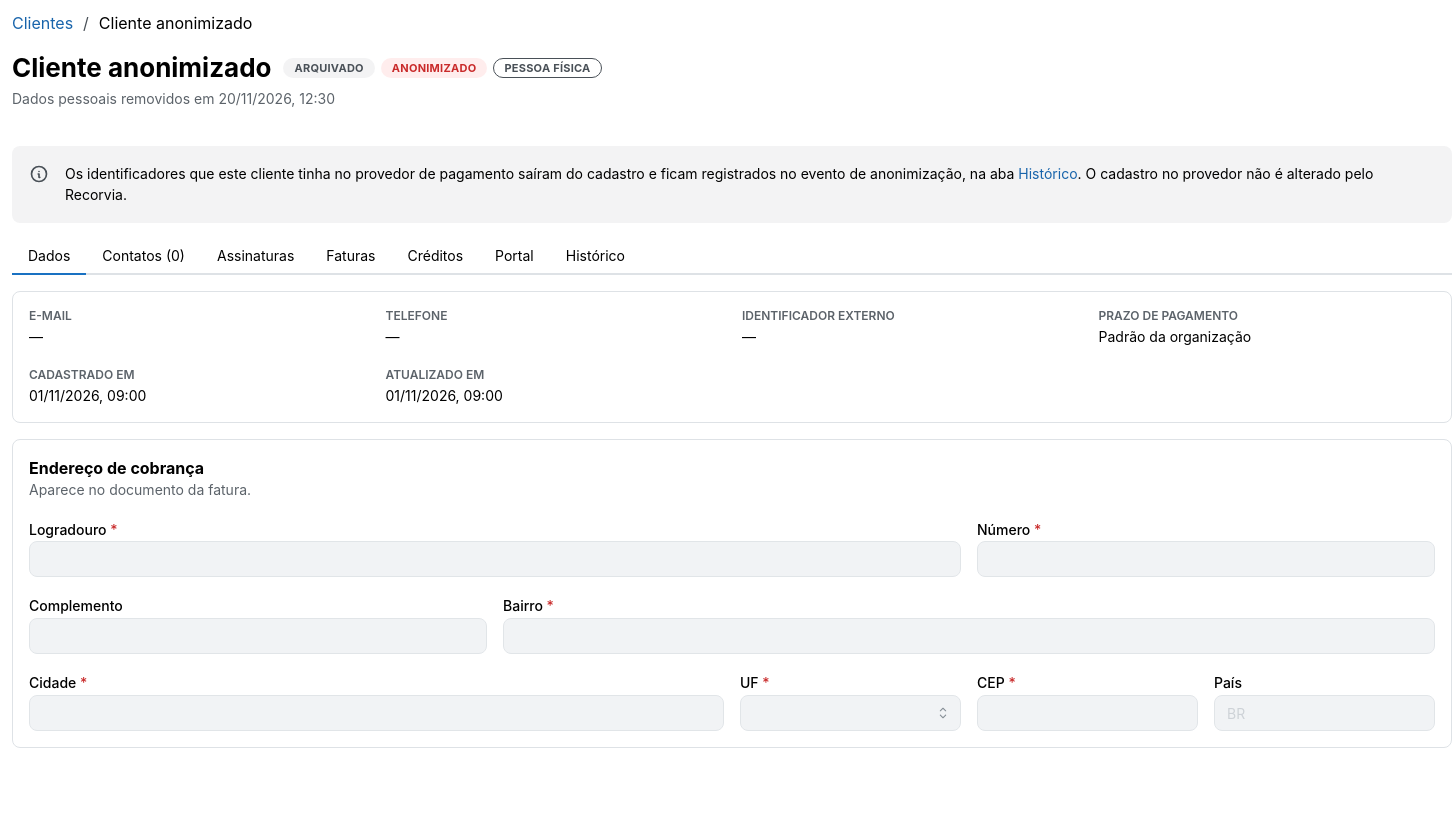
Scenario: anonimização de cliente › cliente anonimizado indica que os identificadores do provedor estão no histórico e leva até ele
Click the button "Histórico" at (1048, 174), box left=1018, top=164, right=1078, bottom=184
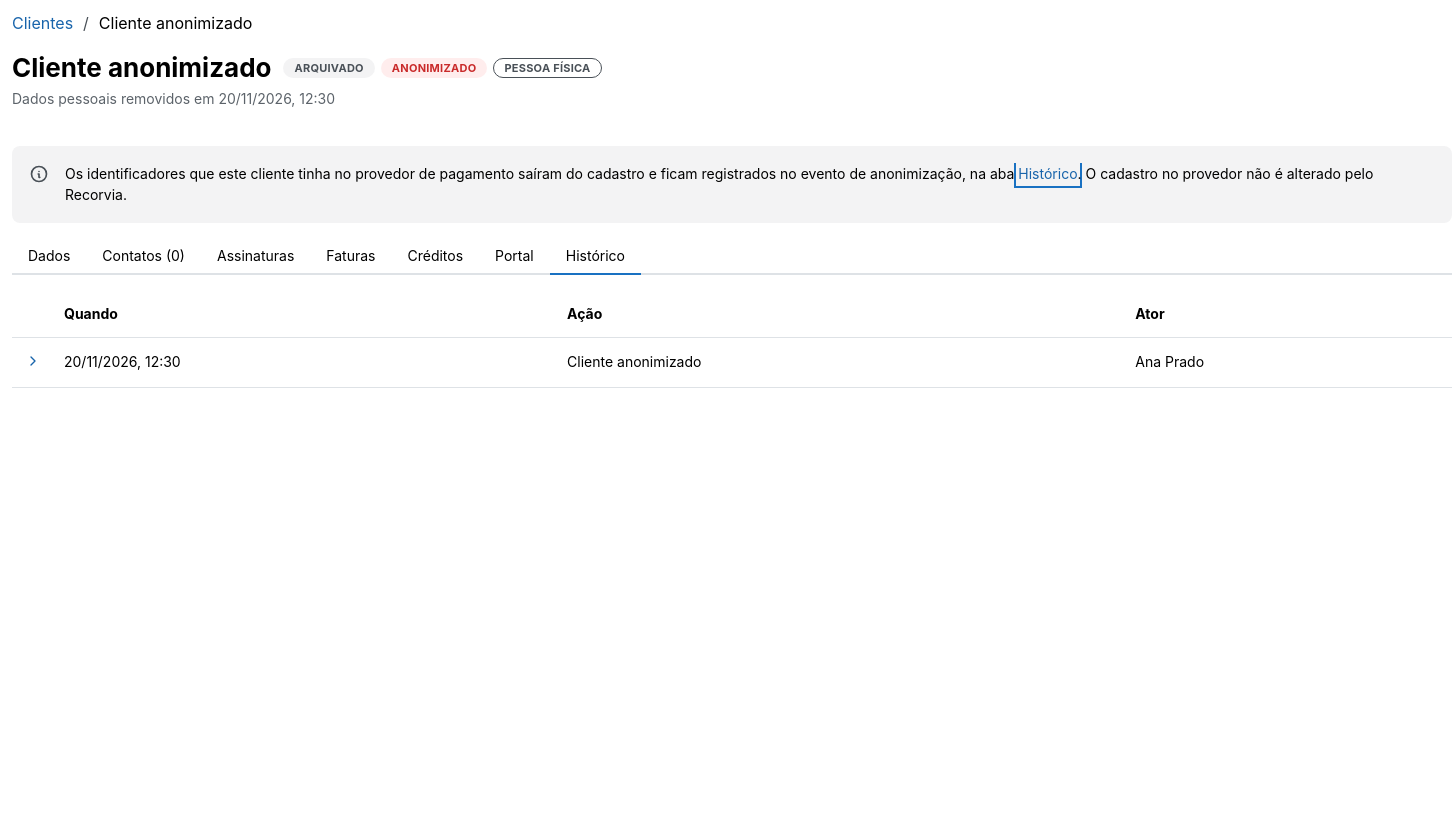
Click the button named "Mostrar detalhes do evento" at (33, 361), box left=22, top=350, right=44, bottom=372
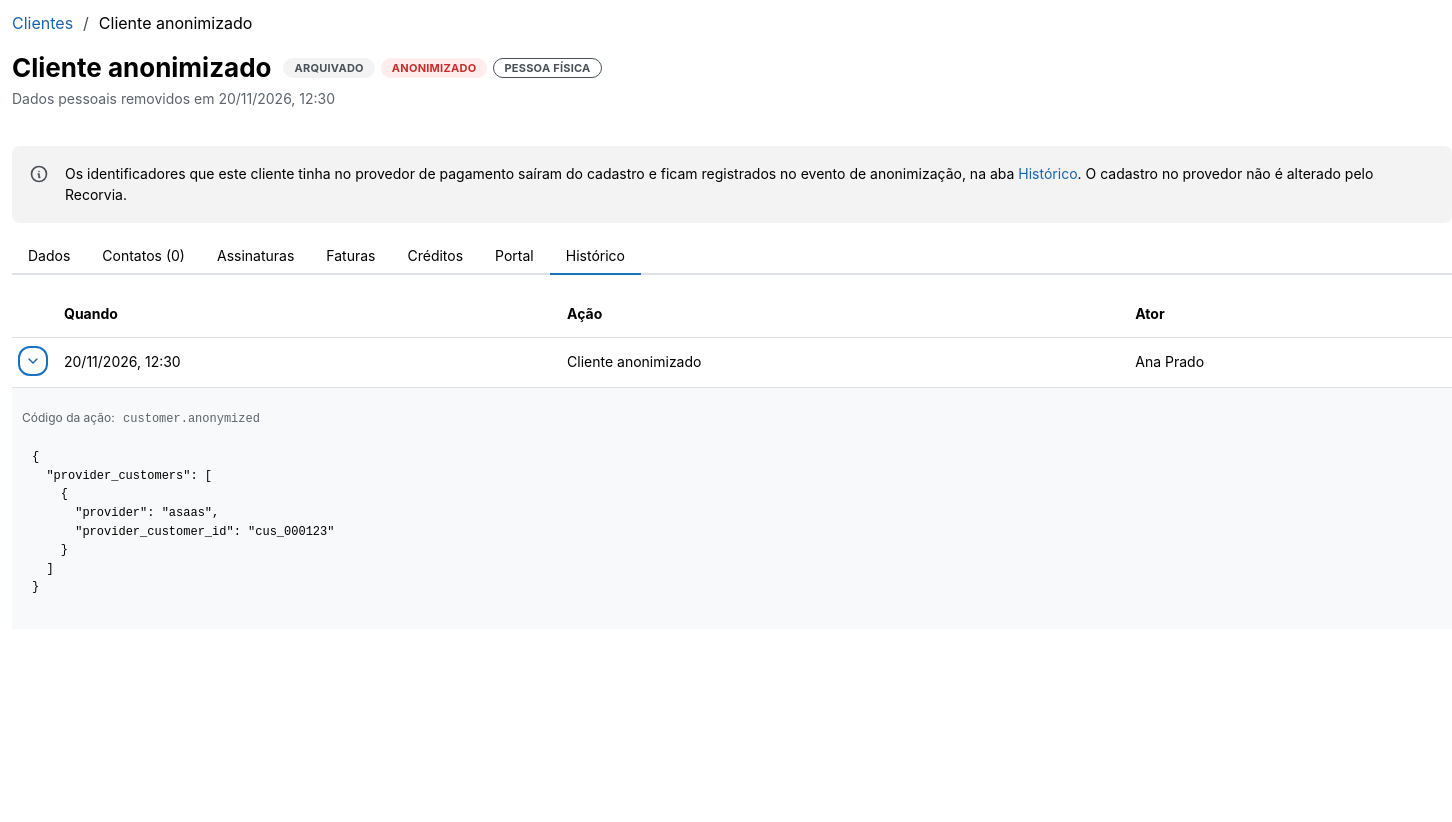
Now the text "\"provider_customer_id\": \"cus_000123\"" is shown, box left=32, top=450, right=334, bottom=594
